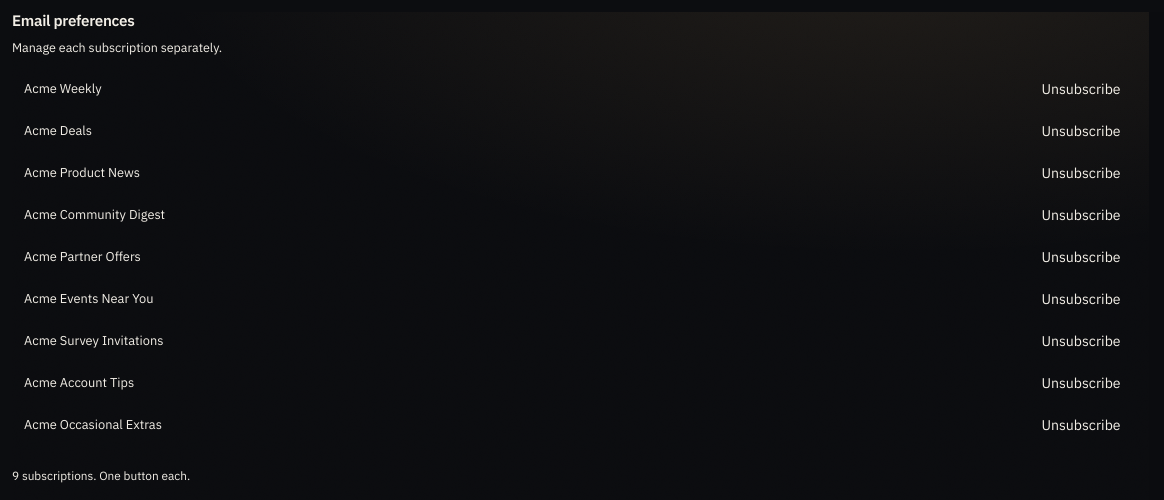
UnsubscribeSlog › locks every other subscription while one is processing
Click the button "Unsubscribe" in the row of "Acme Weekly" at (1081, 89), box [1025,75,1137,103]
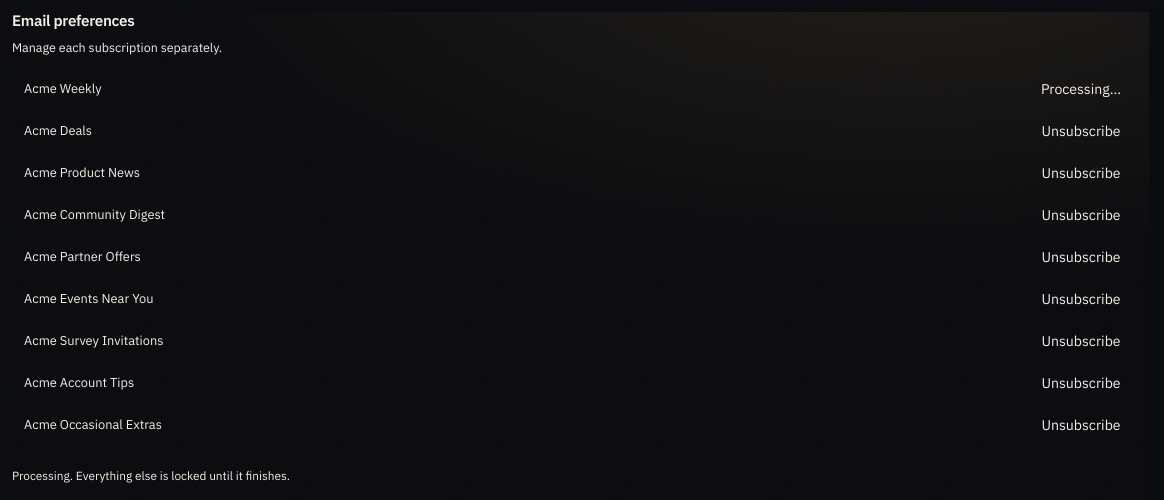
Expected: the button "Processing…" is disabled, [1025,75,1137,103]
Expected: the text "Processing. Everything else is locked until it finishes." is shown, [12,468,290,483]
